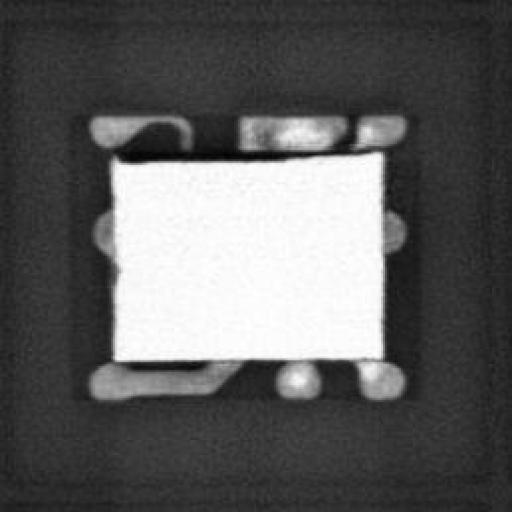DIE_BROKEN: (111, 142, 349, 165)
